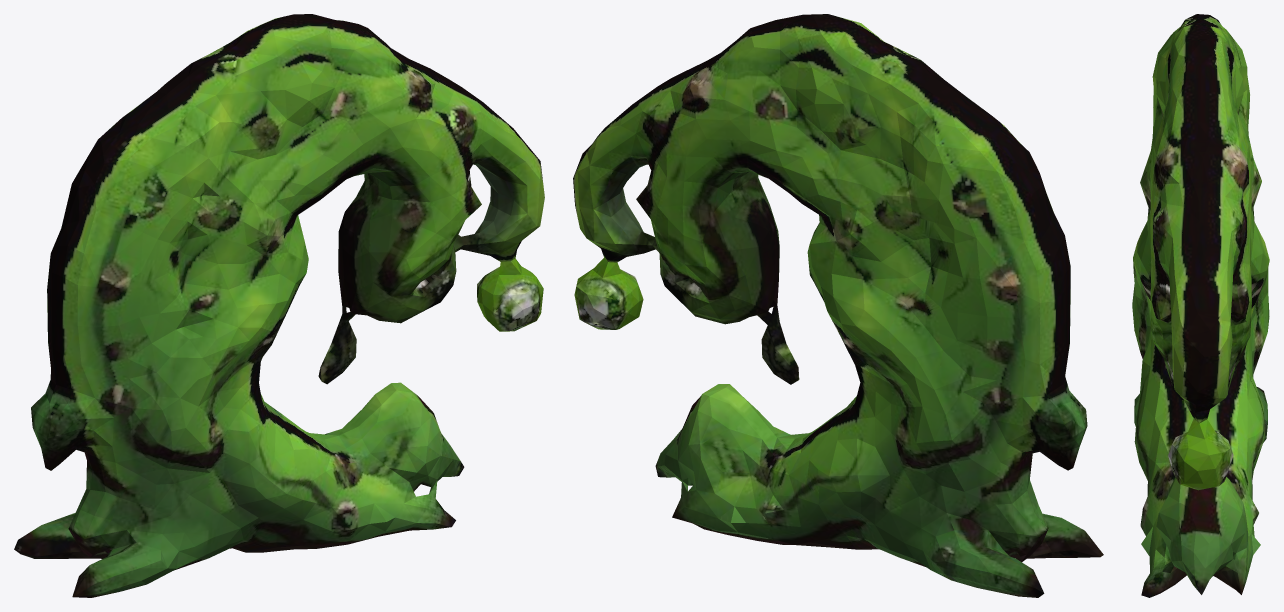
The model's file is sarmasik.glb.
3 renders of one model, left to right at view 1: azimuth 30°, elevation 25°; view 2: azimuth 150°, elevation 25°; view 3: azimuth 270°, elevation 25°, orthographic. The views are drawn at different scales.
Parts seen in each view (by area): view 1: geometry_0; view 2: geometry_0; view 3: geometry_0.
Boxes of the visible parts, x1,y1,x2,y2 form: geometry_0: [14, 14, 544, 597]; geometry_0: [573, 14, 1103, 597]; geometry_0: [1132, 14, 1269, 597].
Size of the model in its own units: 1.02 by 1.01 by 0.2502.
Materials: 1 (1 with a texture image).
